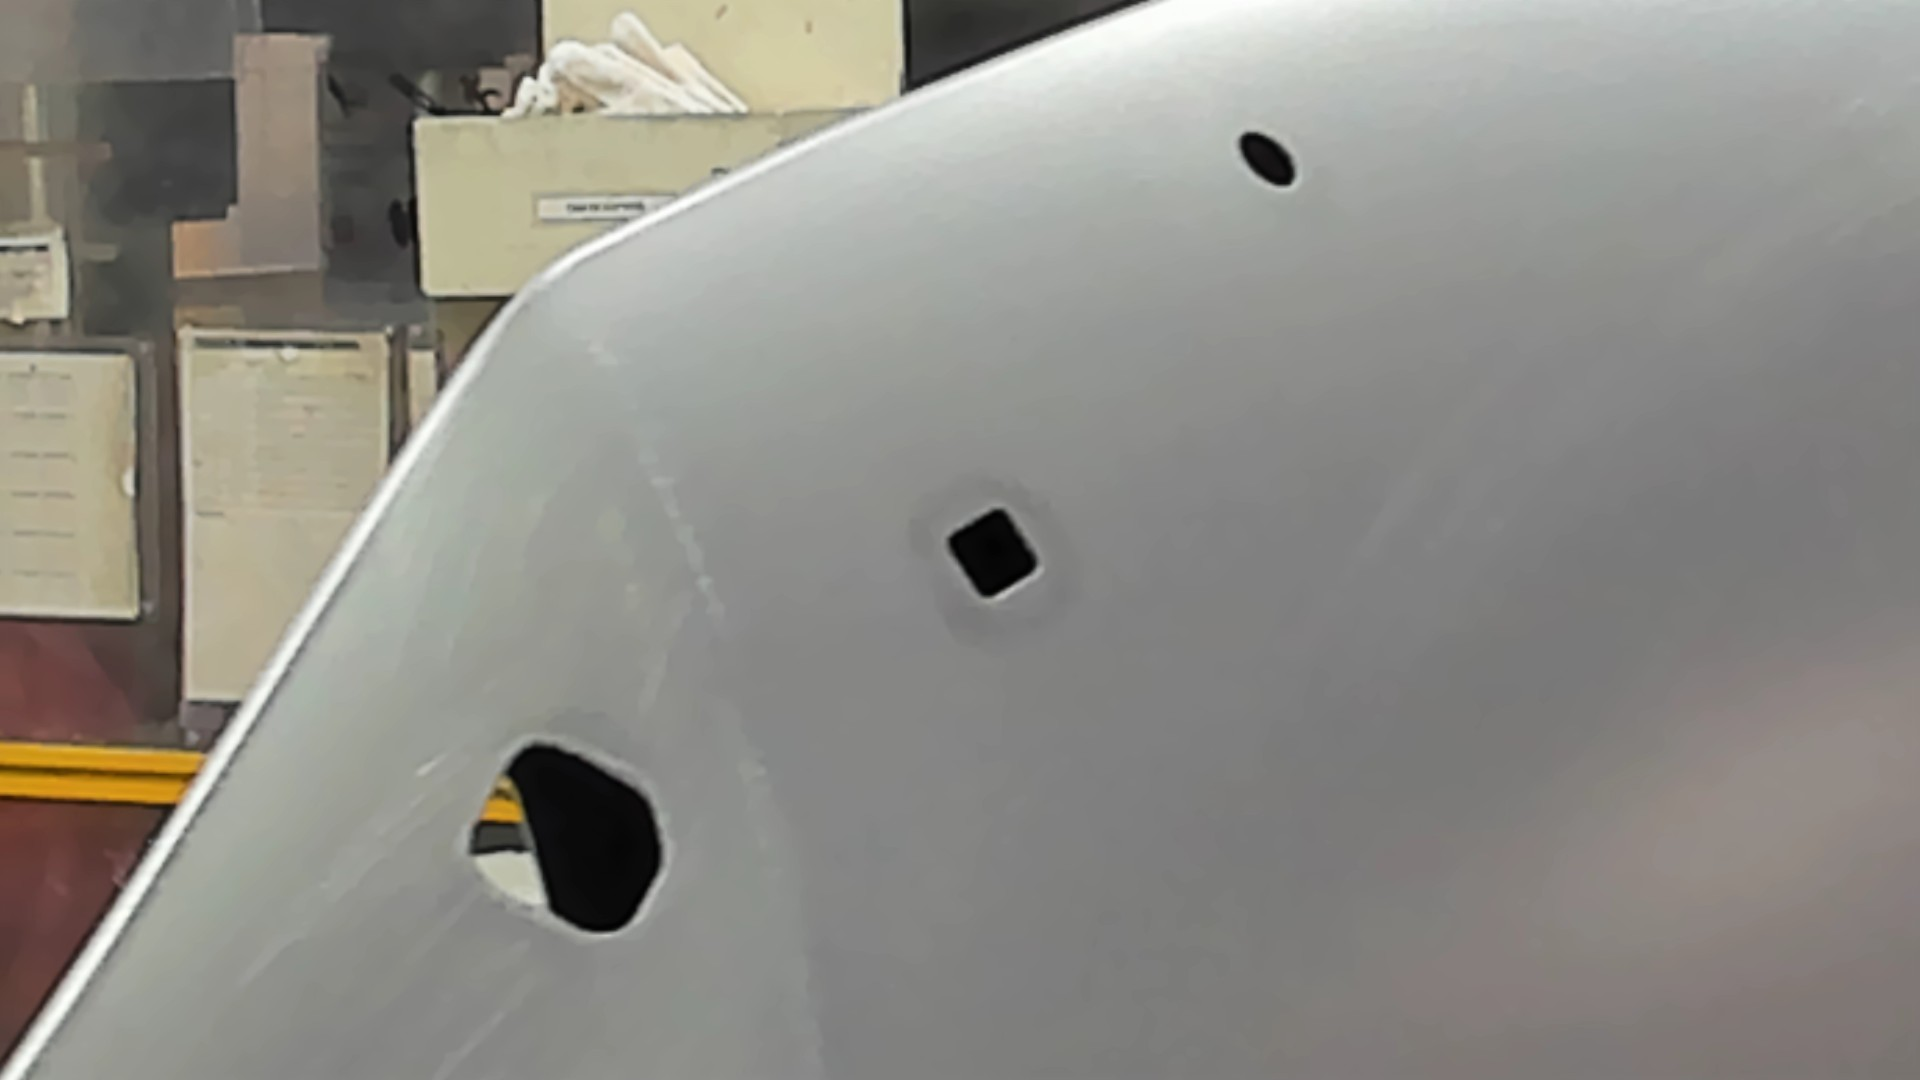capo: (1048, 193, 1920, 1079)
chico: (1233, 124, 1305, 193)
grande: (462, 733, 676, 949)
mediano: (942, 501, 1048, 608)
